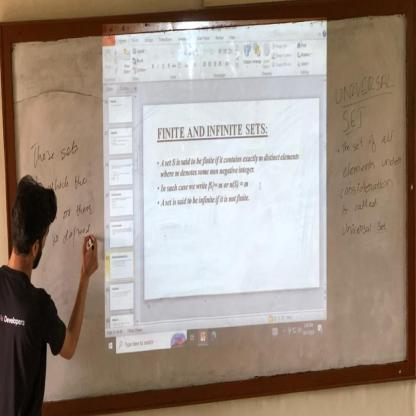Handwritten text: (324, 63, 402, 108), (25, 128, 86, 173), (337, 150, 406, 180), (337, 125, 401, 156), (338, 210, 391, 247), (330, 98, 376, 135), (336, 172, 398, 199), (44, 167, 93, 191), (337, 195, 384, 216)
Lecturer: (0, 167, 84, 416)
Whiteboard: (9, 6, 410, 410)
